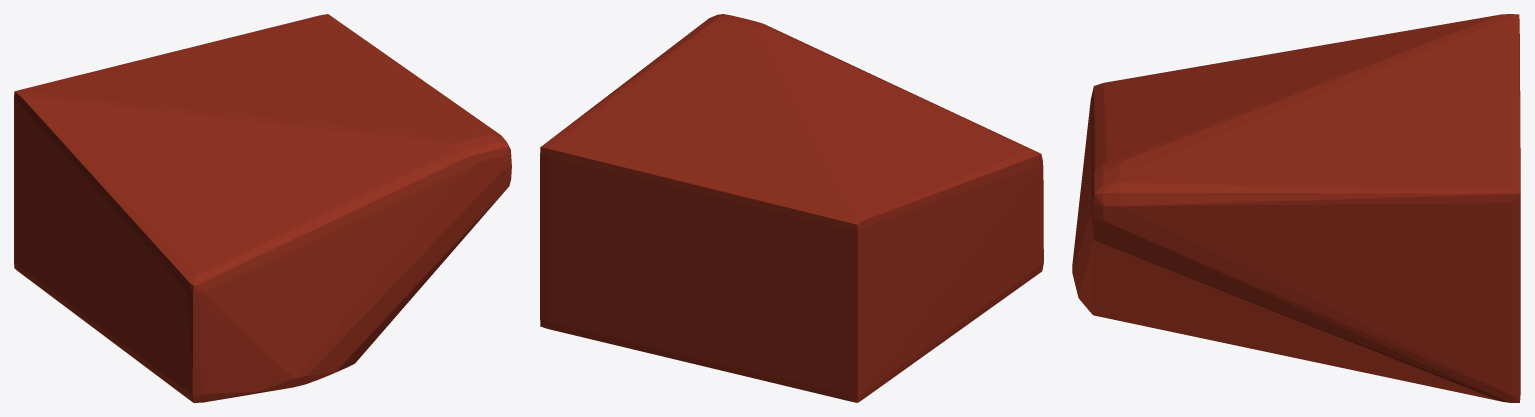
The model's file is right-hip-pitch-0_part_15.obj.
3 views of the same model, side by side, from view 1: azimuth 30°, elevation 25°; view 2: azimuth 150°, elevation 25°; view 3: azimuth 270°, elevation 25° (orthographic). The views are drawn at different scales.
Bounding box in the file's own units: 0.0653 × 0.0358 × 0.0665.
